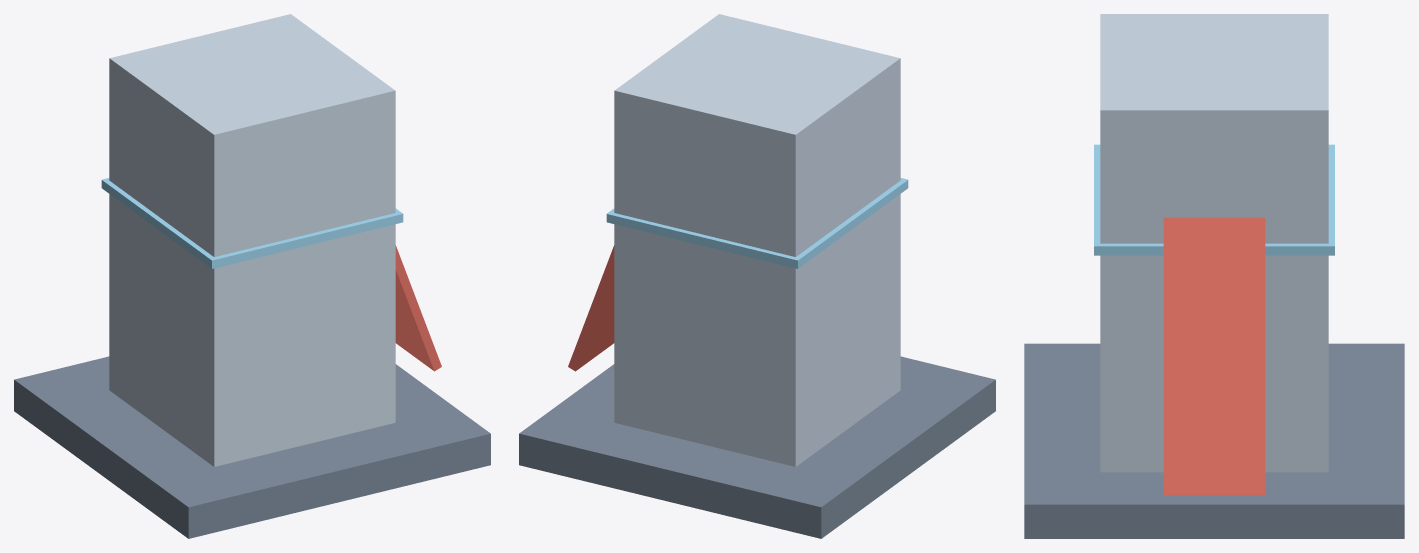
The model's file is is1893_seismic_base_shear_distribution.glb.
3 views of the same model, side by side, from view 1: azimuth 30°, elevation 25°; view 2: azimuth 150°, elevation 25°; view 3: azimuth 270°, elevation 25° (orthographic). The views are drawn at different scales.
Parts seen in each view (by area): view 1: MultiStoreyBuildingStructuralFrame, GroundSeismicShakeBaseSlab, StoryLevelFloorDiaphragms, InvertedTriangularLateralForcePyramid; view 2: MultiStoreyBuildingStructuralFrame, GroundSeismicShakeBaseSlab, StoryLevelFloorDiaphragms, InvertedTriangularLateralForcePyramid; view 3: MultiStoreyBuildingStructuralFrame, GroundSeismicShakeBaseSlab, InvertedTriangularLateralForcePyramid, StoryLevelFloorDiaphragms.
Part boxes in pixels (x1,y1,x2,y2): MultiStoreyBuildingStructuralFrame: [109, 14, 395, 466]; GroundSeismicShakeBaseSlab: [14, 356, 490, 538]; StoryLevelFloorDiaphragms: [101, 178, 403, 268]; InvertedTriangularLateralForcePyramid: [395, 245, 441, 371]; MultiStoreyBuildingStructuralFrame: [614, 14, 900, 466]; GroundSeismicShakeBaseSlab: [519, 356, 995, 538]; StoryLevelFloorDiaphragms: [606, 178, 908, 268]; InvertedTriangularLateralForcePyramid: [568, 245, 614, 371]; MultiStoreyBuildingStructuralFrame: [1100, 14, 1328, 472]; GroundSeismicShakeBaseSlab: [1024, 343, 1404, 538]; InvertedTriangularLateralForcePyramid: [1163, 217, 1265, 494]; StoryLevelFloorDiaphragms: [1094, 144, 1334, 255].
Bounding box in the file's own units: 1.58 × 1.73 × 1.5.
